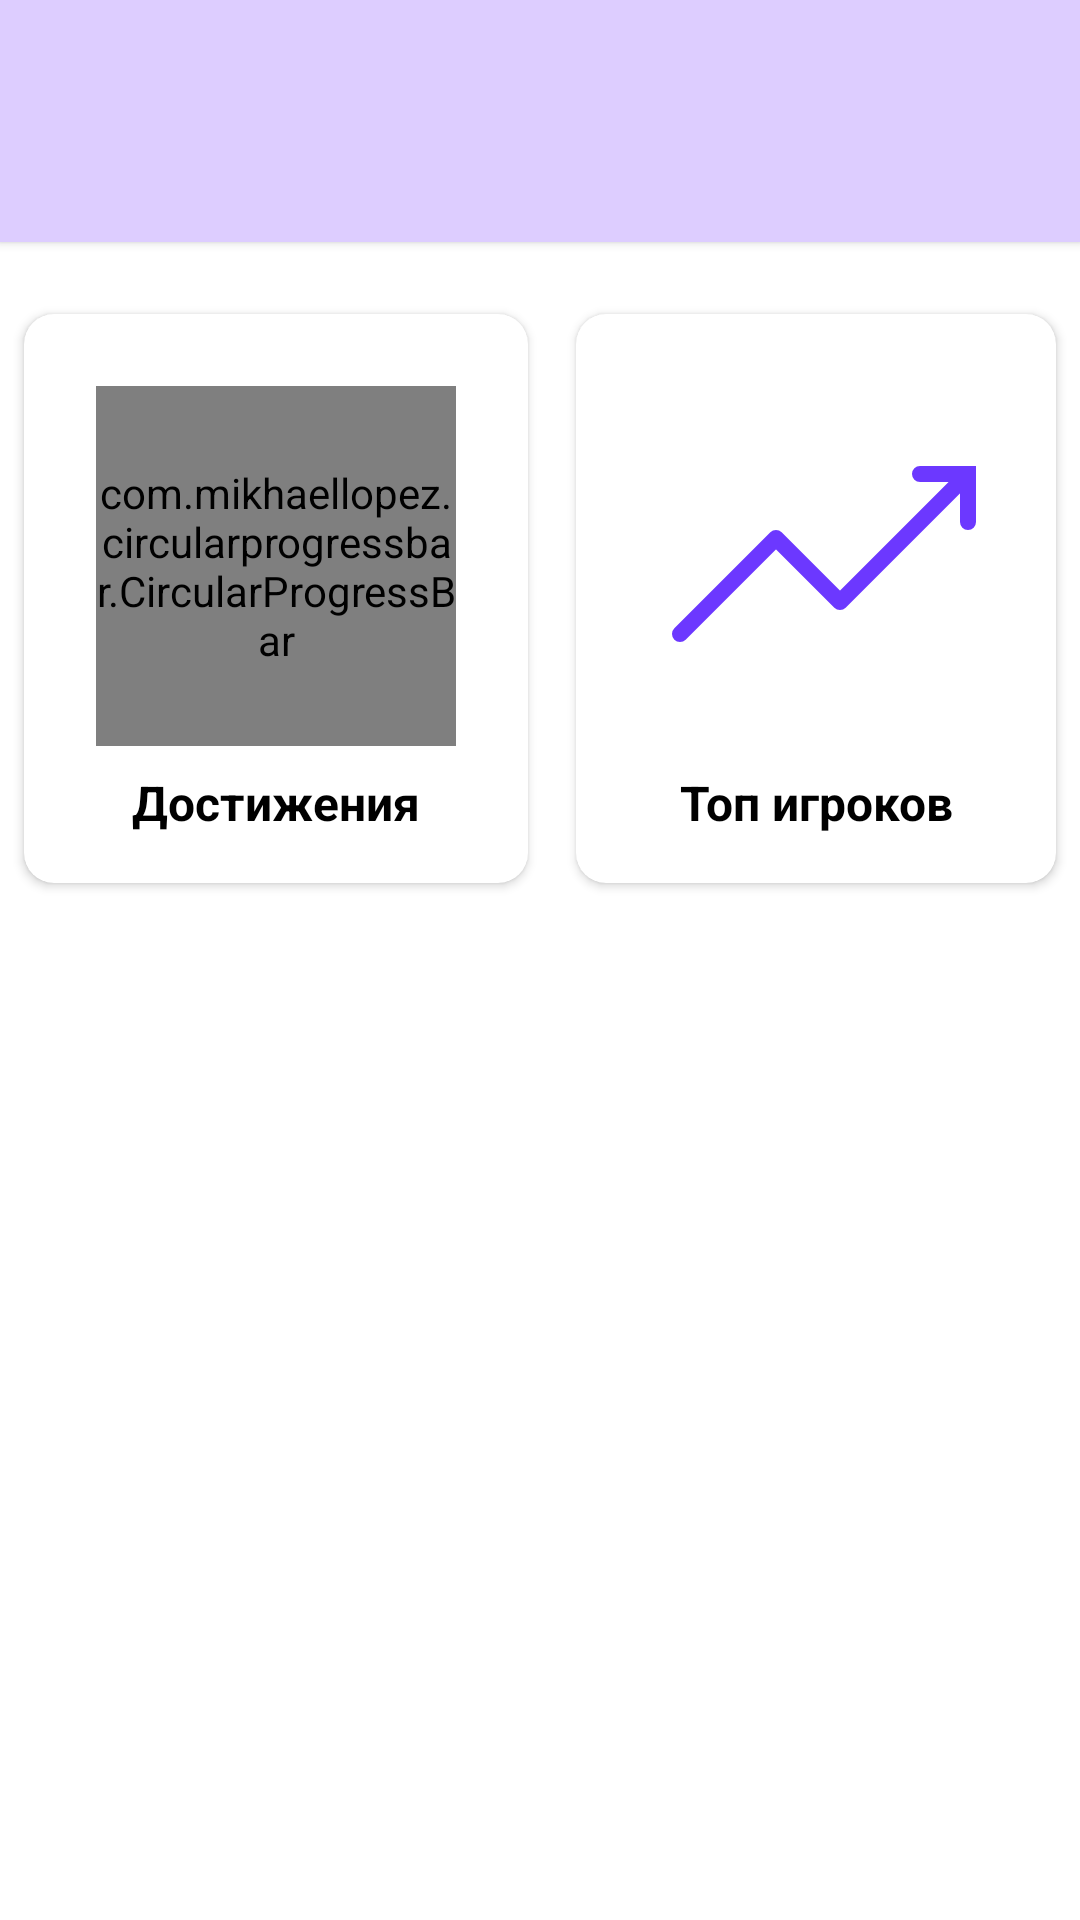

Screen size 1080×1920. Icon name, then its center in pixels as (x=x, y=y):
up statistics: (x=824, y=554)
